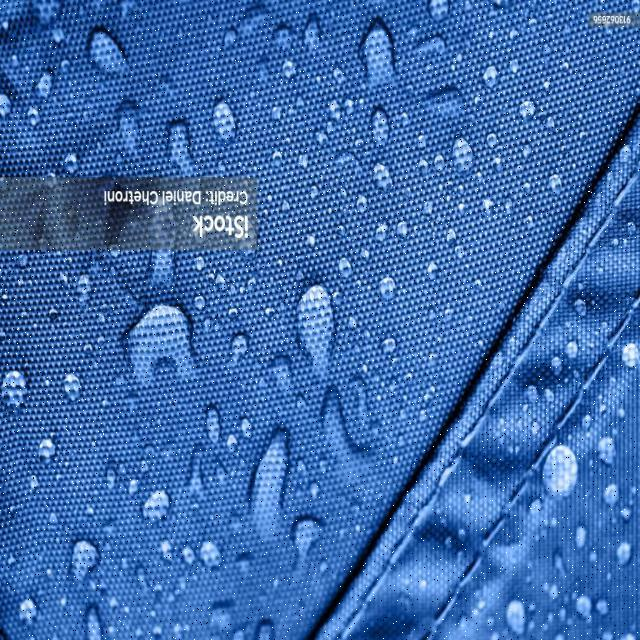raindrop: (110, 294, 210, 397), (240, 417, 293, 551), (290, 279, 344, 369), (80, 15, 136, 95), (350, 12, 399, 94), (534, 432, 584, 508), (158, 116, 202, 190), (200, 91, 246, 157), (111, 98, 149, 168), (288, 507, 326, 576), (359, 98, 403, 156), (130, 477, 176, 532), (7, 584, 49, 640), (63, 532, 101, 590), (444, 130, 481, 181), (30, 54, 62, 111), (362, 160, 398, 210), (201, 396, 230, 458), (0, 361, 33, 413), (199, 525, 232, 576), (30, 422, 63, 470), (228, 324, 256, 375), (57, 360, 85, 410), (0, 71, 21, 132)
